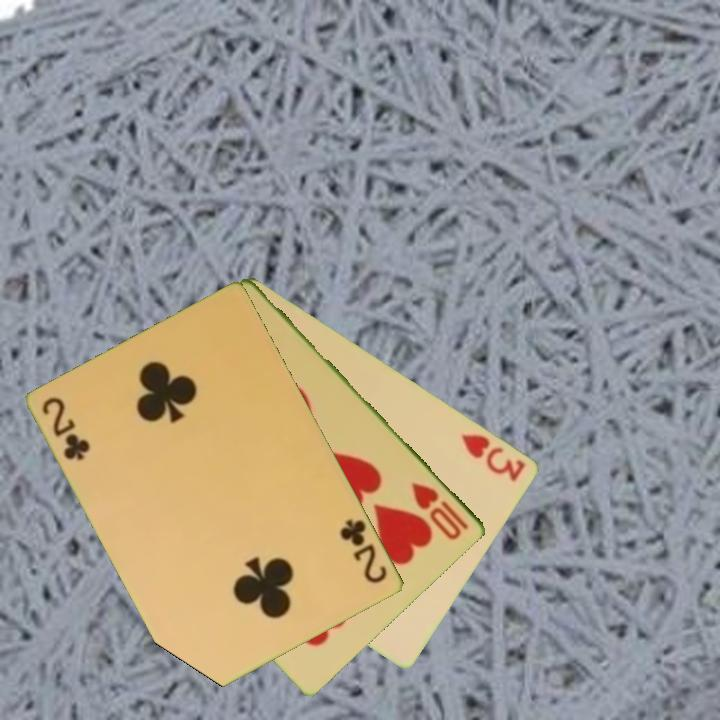10h: (408, 478, 472, 543)
2c: (336, 515, 391, 587), (39, 393, 94, 464)
3h: (458, 430, 529, 485)
